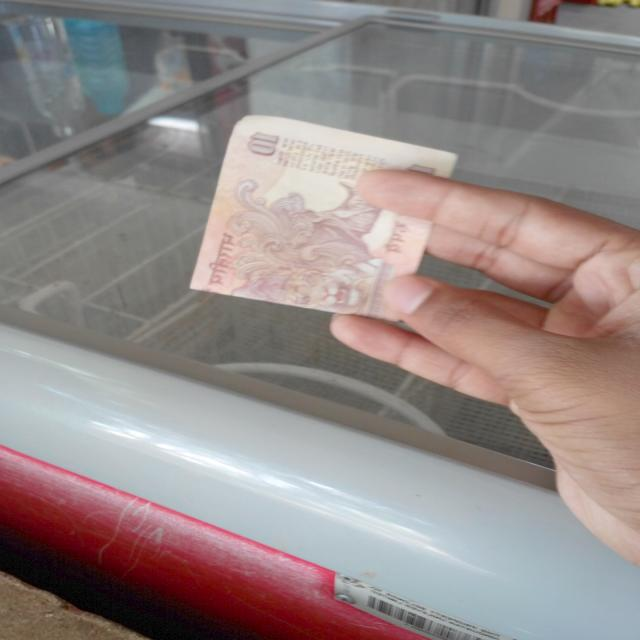10rs: (183, 115, 460, 318)
